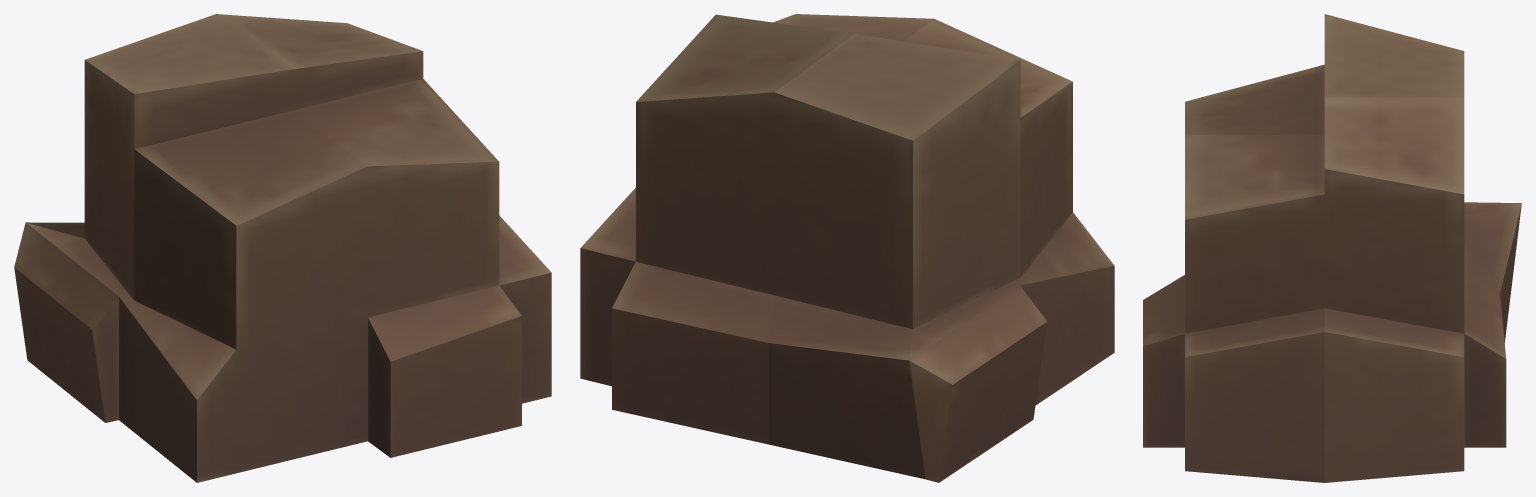
Rendered from rock2.obj.
The picture shows the model from 3 angles, left to right: view 1: azimuth 30°, elevation 25°; view 2: azimuth 150°, elevation 25°; view 3: azimuth 270°, elevation 25°; orthographic projection. The views are drawn at different scales.
Visible parts, largest first — view 1: mesh; view 2: mesh; view 3: mesh.
Boxes of the visible parts, box(x1,y1,x2,y2) form: mesh: box(14, 14, 551, 482); mesh: box(580, 14, 1114, 482); mesh: box(1143, 14, 1521, 482).
Bounding box in the file's own units: 1.91 × 1.5 × 1.7.
1 material, 1 textured.
